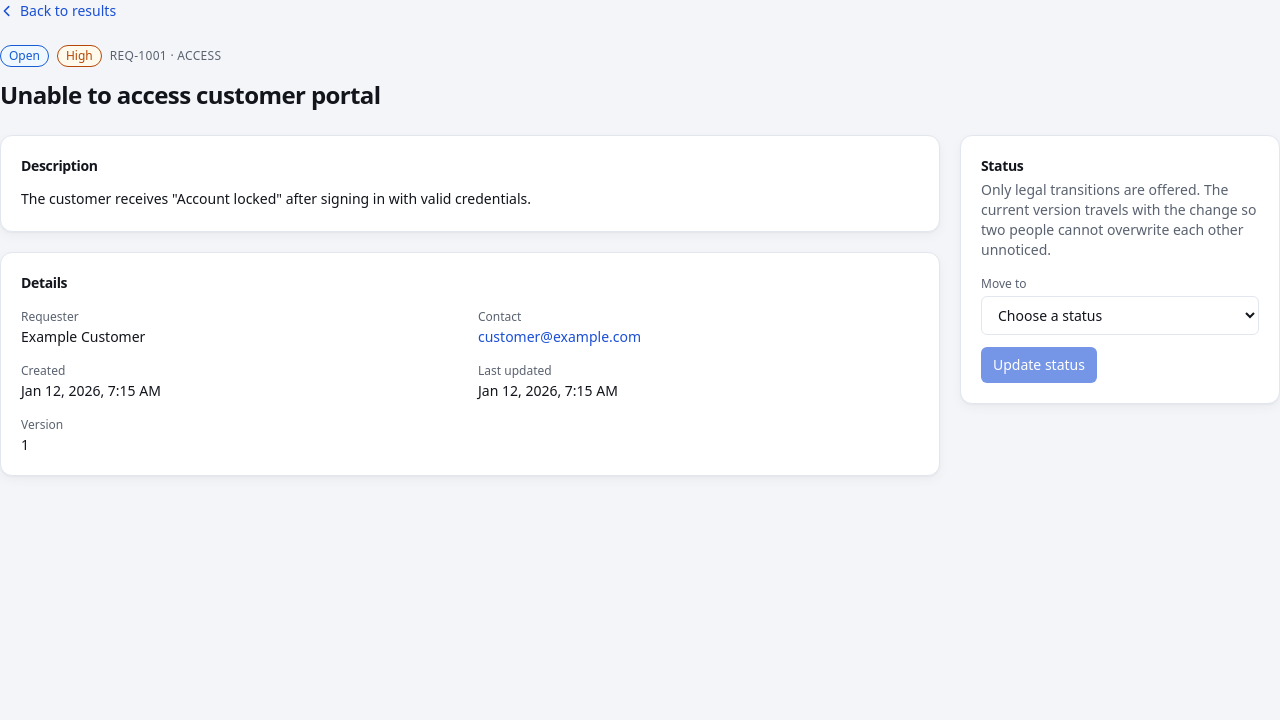
Test case: status transitions › opens the conflict dialog when the version is stale
Select "In progress" in the dropdown labelled "Move to": (1120, 316) top-left (981, 296), bottom-right (1259, 335)
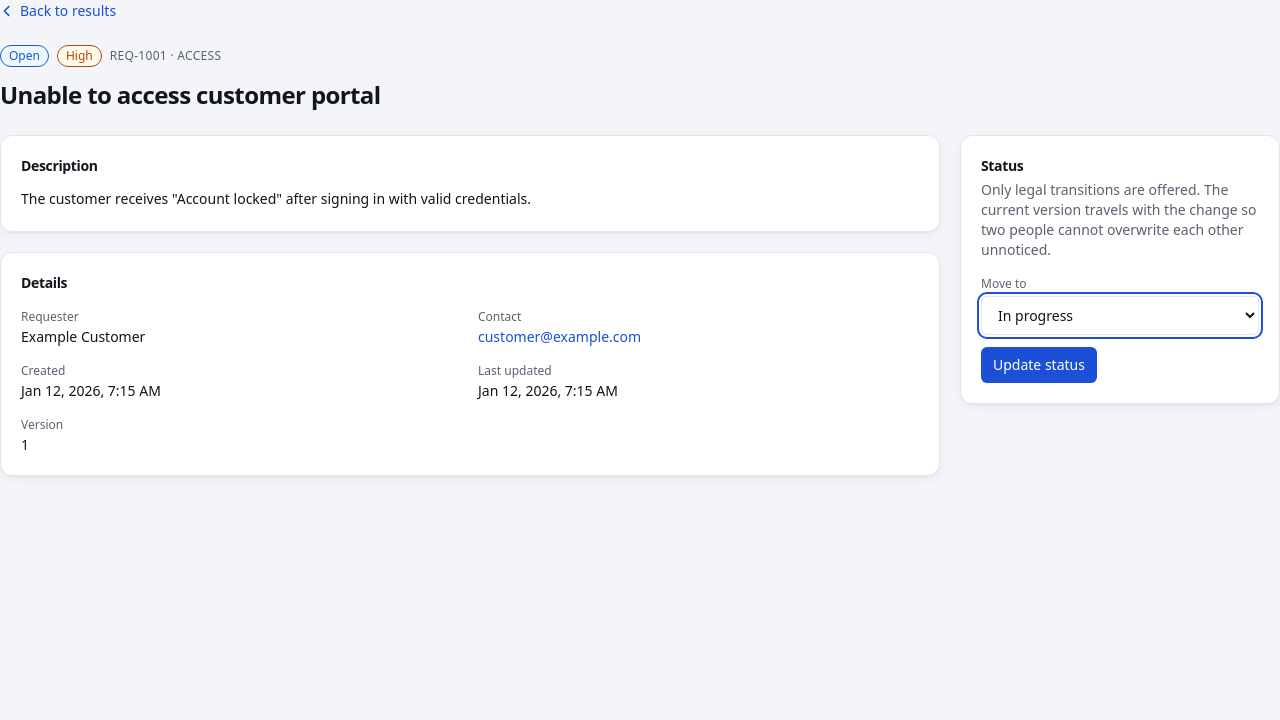
Click the button "Update status": (1039, 365) top-left (981, 347), bottom-right (1097, 383)
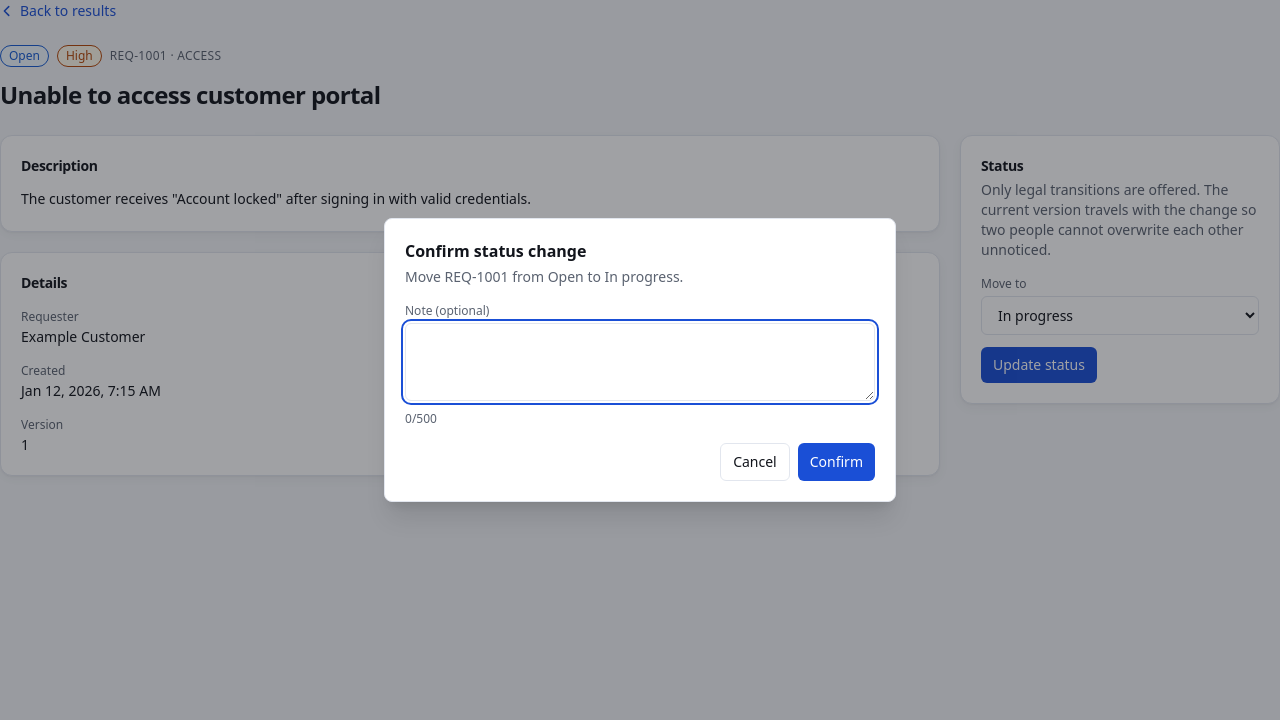
Click the button "Confirm": (836, 462) top-left (798, 443), bottom-right (875, 481)
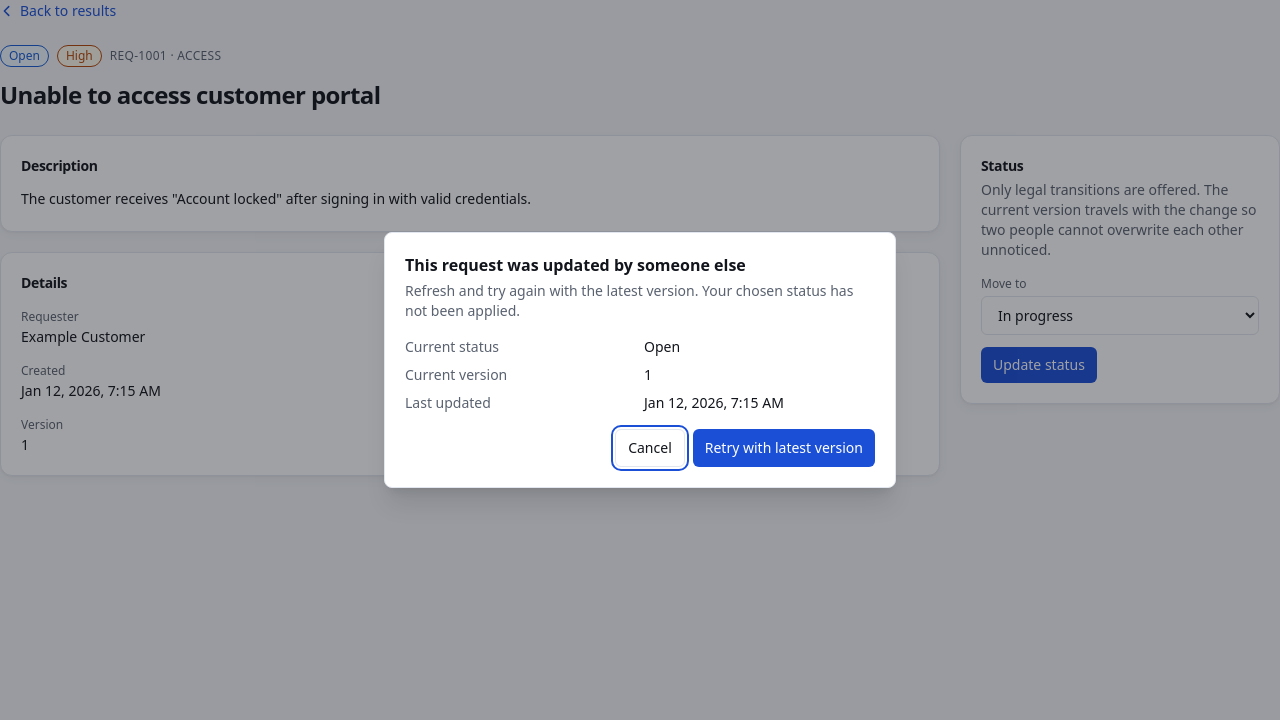
Check: the heading "This request was updated by someone else" is shown, box top-left (405, 254), bottom-right (746, 276)
Check: the button "Retry with latest version" is shown, box top-left (693, 429), bottom-right (875, 467)
